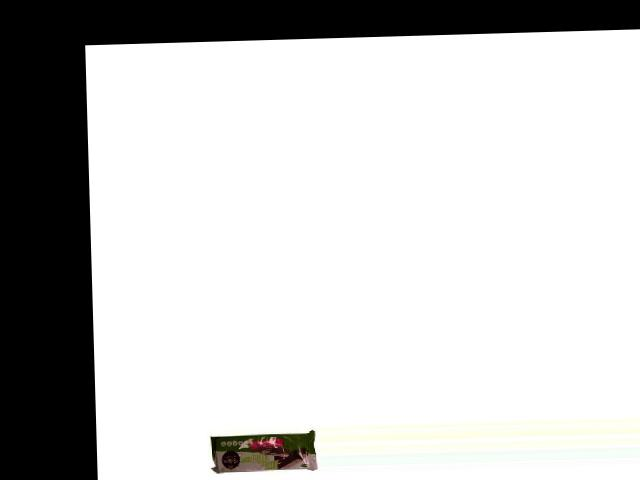chocolate: (206, 431, 316, 477)
